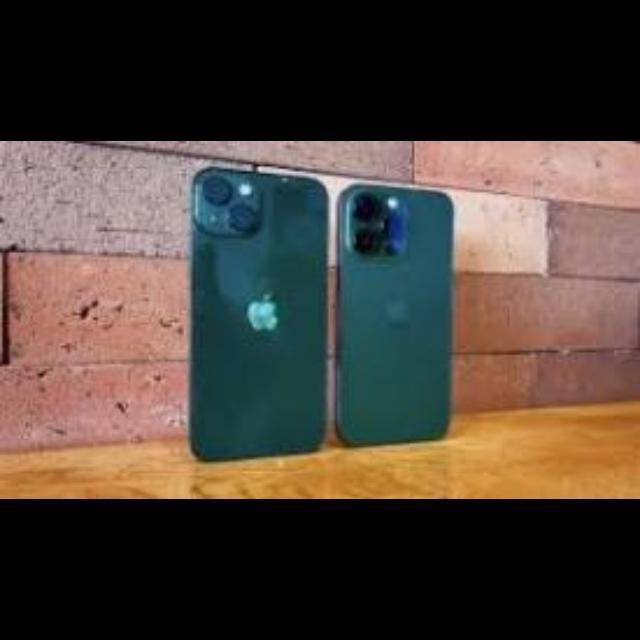phone: (182, 163, 343, 453), (327, 174, 455, 444)
